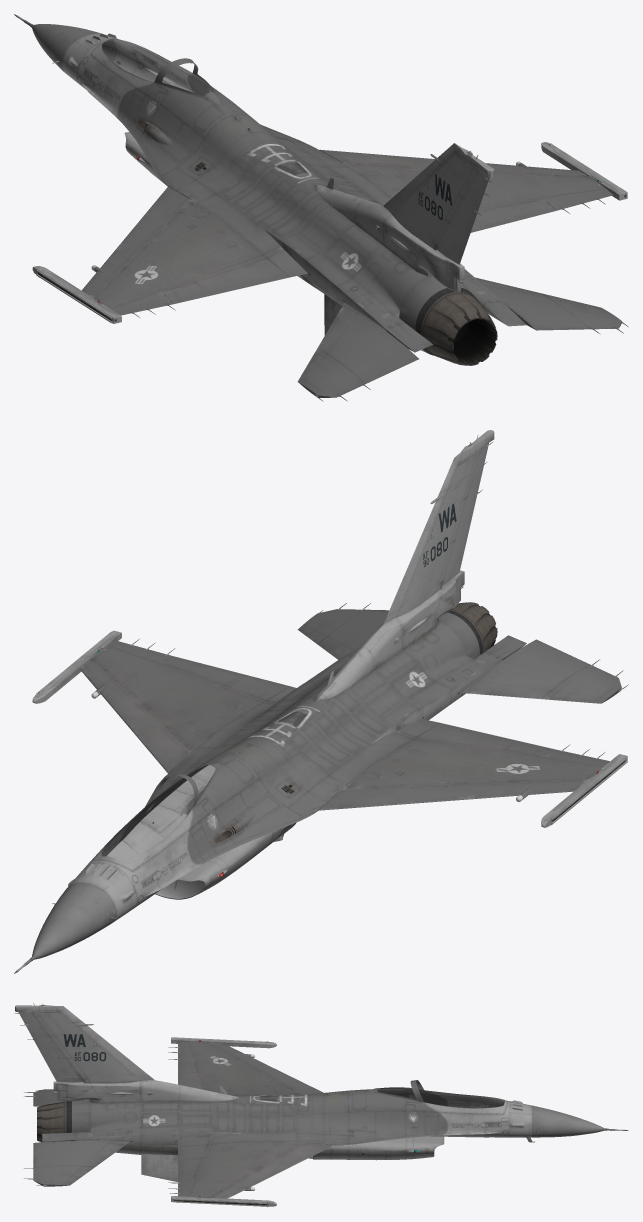
File: f16_game.glb
3 renders of one model, top to bottom at view 1: azimuth 30°, elevation 25°; view 2: azimuth 150°, elevation 25°; view 3: azimuth 270°, elevation 25°, orthographic. The views are drawn at different scales.
Parts seen in each view (by area): view 1: Airframe; view 2: Airframe; view 3: Airframe.
Part boxes in pixels (bbox=[...]): Airframe: bbox=[14, 14, 628, 401]; Airframe: bbox=[14, 430, 628, 973]; Airframe: bbox=[15, 1003, 628, 1207].
Bounding box in the file's own units: 5.6 × 2.74 × 9.
1 material, 1 textured.
